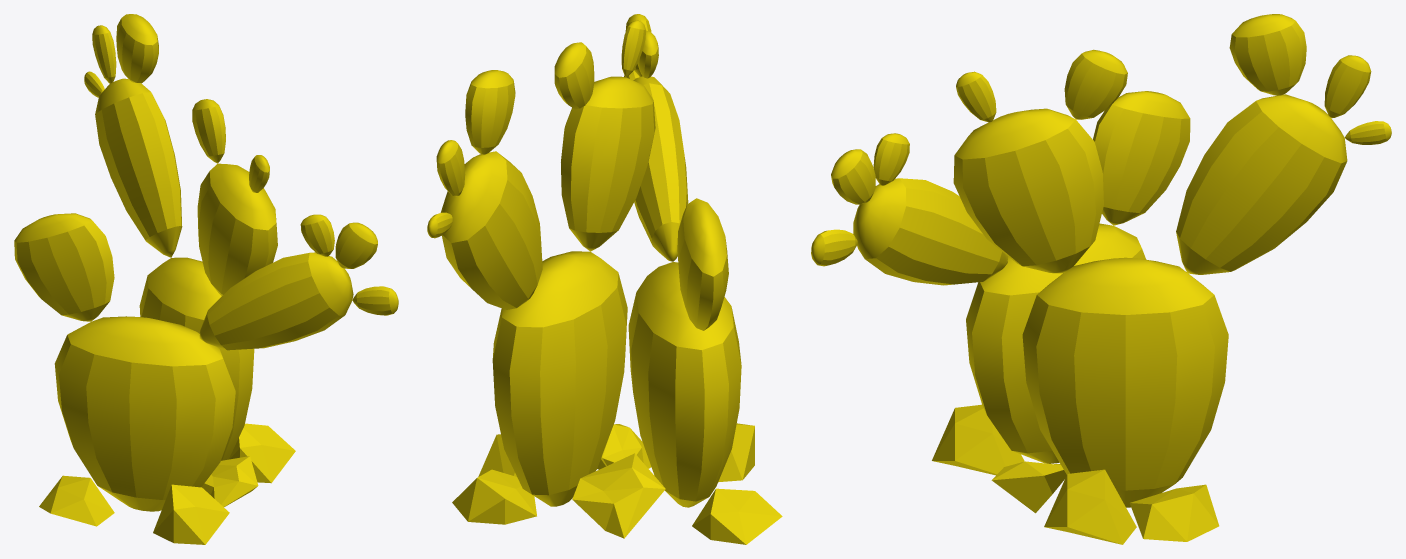
The model's file is Envi_Cactus_Flat_03_v01.fbx.
3 views of the same model, side by side, from view 1: azimuth 30°, elevation 25°; view 2: azimuth 150°, elevation 25°; view 3: azimuth 270°, elevation 25° (orthographic). The views are drawn at different scales.
Parts seen in each view (by area): view 1: Truck_Ex_Set03_Cactus_Part_Bottom_02, Truck_Ex_Set03_Cactus_Part_Mid_03, Truck_Ex_Set03_Cactus_Part_Mid_05, Truck_Ex_Set03_Cactus_Part_Mid_04, Truck_Ex_Set03_Cactus_Part_Mid_06, Truck_Ex_Set03_Cactus_Part_Bottom_01, Truck_Ex_Set03_RockCactus_Small_11, Truck_Ex_Set03_RockCactus_Small_10, Truck_Ex_Set03_Cactus_Part_Top_11, Truck_Ex_Set03_RockCactus_Small_13, Truck_Ex_Set03_RockCactus_Small_12, Truck_Ex_Set03_Cactus_Part_Top_12 (+5 smaller); view 2: Truck_Ex_Set03_Cactus_Part_Bottom_01, Truck_Ex_Set03_Cactus_Part_Bottom_02, Truck_Ex_Set03_Cactus_Part_Mid_06, Truck_Ex_Set03_Cactus_Part_Mid_05, Truck_Ex_Set03_Cactus_Part_Mid_03, Truck_Ex_Set03_Cactus_Part_Mid_04, Truck_Ex_Set03_RockCactus_Small_6, Truck_Ex_Set03_RockCactus_Small_10, Truck_Ex_Set03_Cactus_Part_Top_11, Truck_Ex_Set03_RockCactus_Small_5, Truck_Ex_Set03_Cactus_Part_Top_12, Truck_Ex_Set03_RockCactus_Small_11 (+6 smaller); view 3: Truck_Ex_Set03_Cactus_Part_Bottom_01, Truck_Ex_Set03_Cactus_Part_Mid_05, Truck_Ex_Set03_Cactus_Part_Mid_06, Truck_Ex_Set03_Cactus_Part_Bottom_02, Truck_Ex_Set03_Cactus_Part_Mid_03, Truck_Ex_Set03_Cactus_Part_Mid_04, Truck_Ex_Set03_Cactus_Part_Top_11, Truck_Ex_Set03_RockCactus_Small_13, Truck_Ex_Set03_RockCactus_Small_11, Truck_Ex_Set03_RockCactus_Small_5, Truck_Ex_Set03_Cactus_Part_Top_12, Truck_Ex_Set03_RockCactus_Small_12 (+6 smaller).
Boxes of the visible parts, bbox=[...] form: Truck_Ex_Set03_Cactus_Part_Bottom_02: bbox=[54, 316, 235, 511]; Truck_Ex_Set03_Cactus_Part_Mid_03: bbox=[199, 252, 353, 350]; Truck_Ex_Set03_Cactus_Part_Mid_05: bbox=[95, 78, 182, 257]; Truck_Ex_Set03_Cactus_Part_Mid_04: bbox=[14, 213, 114, 321]; Truck_Ex_Set03_Cactus_Part_Mid_06: bbox=[197, 163, 277, 295]; Truck_Ex_Set03_Cactus_Part_Bottom_01: bbox=[139, 257, 254, 460]; Truck_Ex_Set03_RockCactus_Small_11: bbox=[153, 484, 229, 544]; Truck_Ex_Set03_RockCactus_Small_10: bbox=[39, 475, 114, 526]; Truck_Ex_Set03_Cactus_Part_Top_11: bbox=[116, 14, 158, 83]; Truck_Ex_Set03_RockCactus_Small_13: bbox=[228, 423, 295, 483]; Truck_Ex_Set03_RockCactus_Small_12: bbox=[202, 456, 258, 506]; Truck_Ex_Set03_Cactus_Part_Top_12: bbox=[192, 99, 225, 163]; Truck_Ex_Set03_Cactus_Part_Bottom_01: bbox=[492, 251, 627, 506]; Truck_Ex_Set03_Cactus_Part_Bottom_02: bbox=[628, 262, 741, 507]; Truck_Ex_Set03_Cactus_Part_Mid_06: bbox=[561, 76, 655, 251]; Truck_Ex_Set03_Cactus_Part_Mid_05: bbox=[440, 151, 542, 309]; Truck_Ex_Set03_Cactus_Part_Mid_03: bbox=[633, 76, 688, 261]; Truck_Ex_Set03_Cactus_Part_Mid_04: bbox=[677, 198, 728, 330]; Truck_Ex_Set03_RockCactus_Small_6: bbox=[572, 453, 665, 538]; Truck_Ex_Set03_RockCactus_Small_10: bbox=[692, 488, 782, 544]; Truck_Ex_Set03_Cactus_Part_Top_11: bbox=[465, 70, 515, 155]; Truck_Ex_Set03_RockCactus_Small_5: bbox=[452, 469, 536, 524]; Truck_Ex_Set03_Cactus_Part_Top_12: bbox=[554, 42, 594, 109]; Truck_Ex_Set03_RockCactus_Small_11: bbox=[718, 423, 754, 482]; Truck_Ex_Set03_Cactus_Part_Bottom_01: bbox=[1022, 257, 1228, 507]; Truck_Ex_Set03_Cactus_Part_Mid_05: bbox=[1176, 94, 1347, 274]; Truck_Ex_Set03_Cactus_Part_Mid_06: bbox=[953, 108, 1103, 273]; Truck_Ex_Set03_Cactus_Part_Bottom_02: bbox=[966, 223, 1145, 463]; Truck_Ex_Set03_Cactus_Part_Mid_03: bbox=[853, 178, 1007, 285]; Truck_Ex_Set03_Cactus_Part_Mid_04: bbox=[1093, 91, 1190, 225]; Truck_Ex_Set03_Cactus_Part_Top_11: bbox=[1229, 14, 1306, 95]; Truck_Ex_Set03_RockCactus_Small_13: bbox=[1044, 469, 1136, 544]; Truck_Ex_Set03_RockCactus_Small_11: bbox=[932, 404, 1024, 475]; Truck_Ex_Set03_RockCactus_Small_5: bbox=[1129, 484, 1219, 541]; Truck_Ex_Set03_Cactus_Part_Top_12: bbox=[1064, 49, 1127, 119]; Truck_Ex_Set03_RockCactus_Small_12: bbox=[991, 461, 1066, 513].
Bounding box in the file's own units: 13.41 × 21.47 × 23.18.
